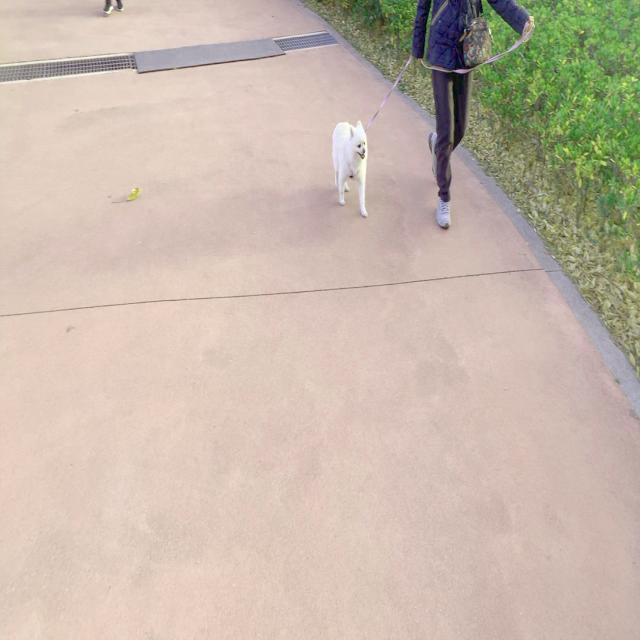Leashed_Dog: (332, 16, 454, 218)
